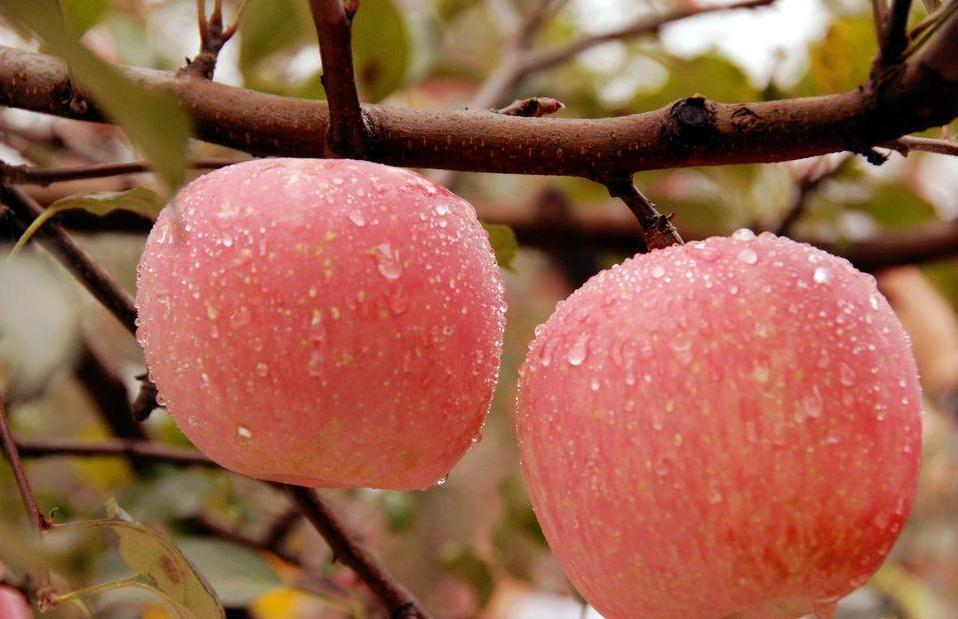apple: (512, 234, 921, 616), (138, 155, 514, 490)
